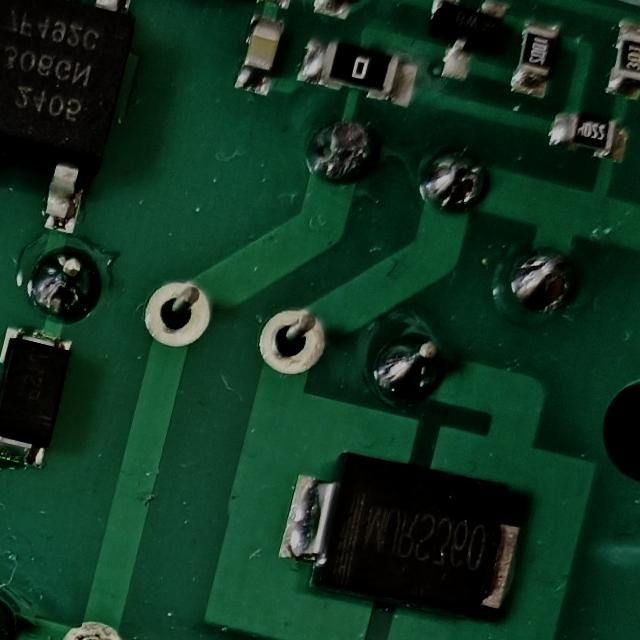chip-capacitor: (227, 7, 289, 101)
chip-resistor: (291, 31, 421, 113), (542, 105, 634, 167), (505, 13, 567, 103), (596, 16, 640, 105)
diode: (264, 430, 540, 640), (0, 318, 80, 479)
transistor: (410, 0, 514, 90)
